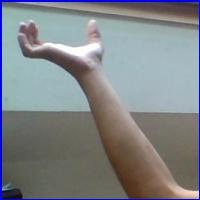space: (13, 13, 113, 81)
